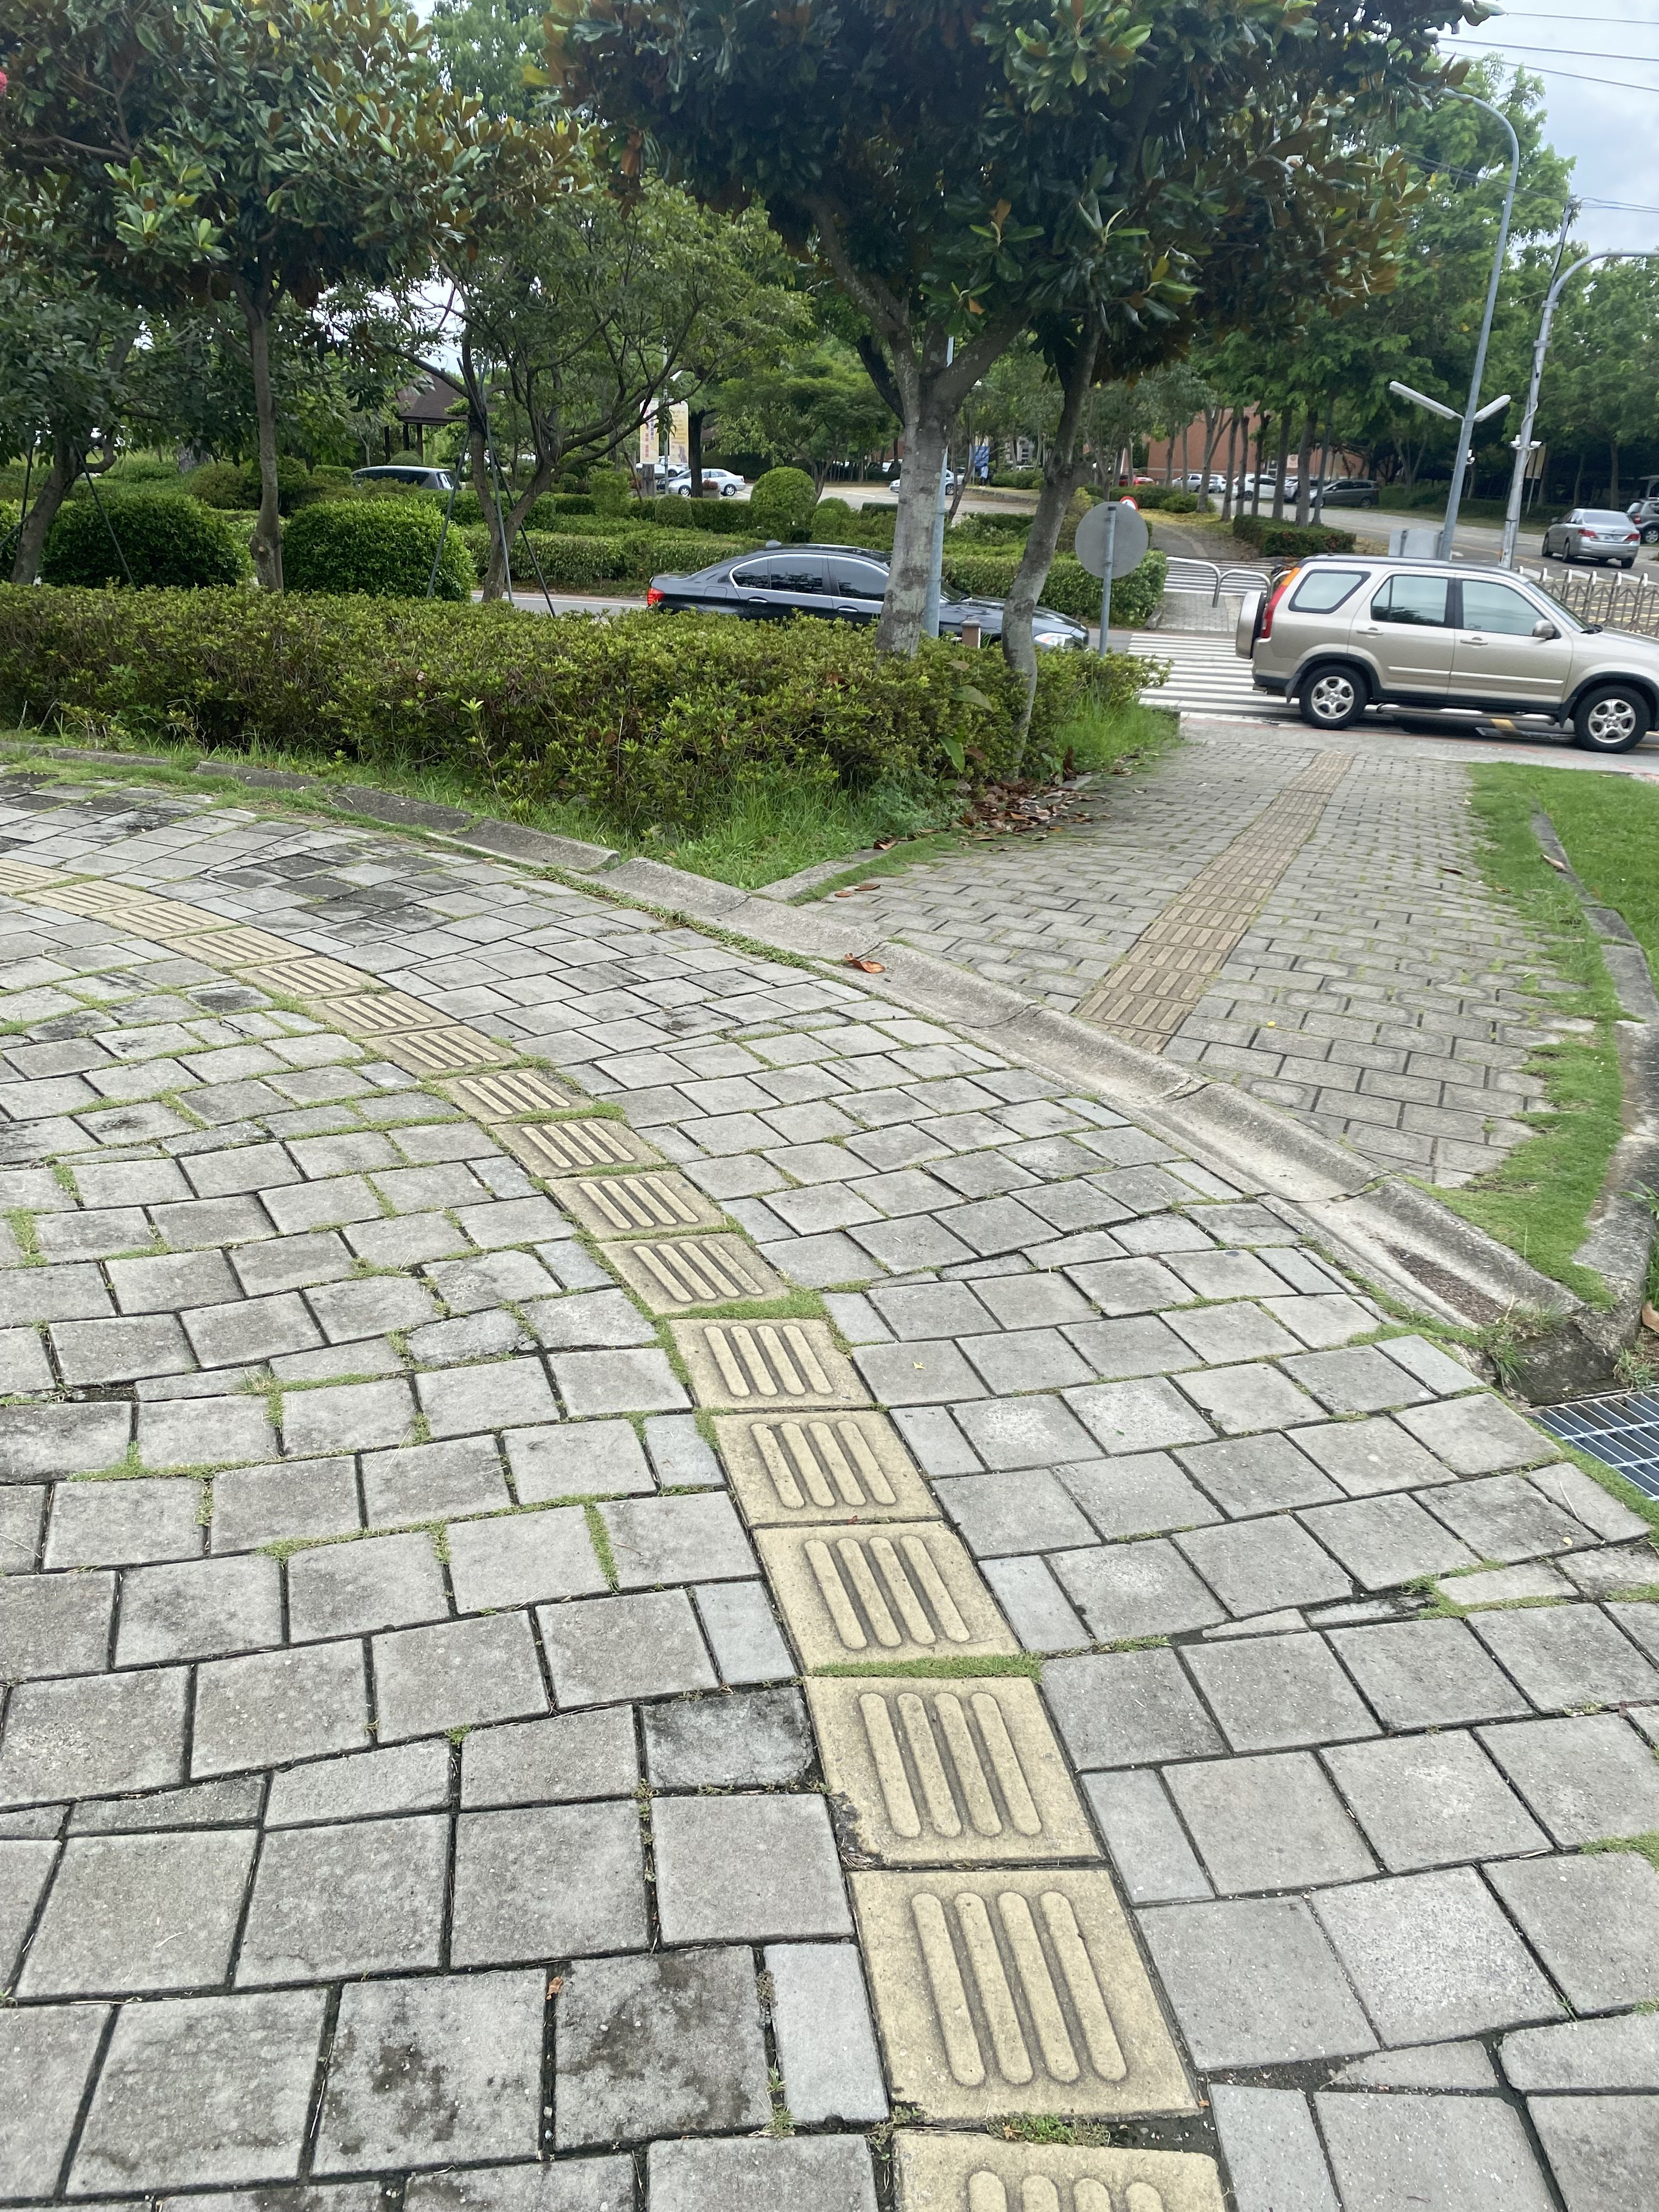sidewalk: (5, 721, 1659, 2212)
